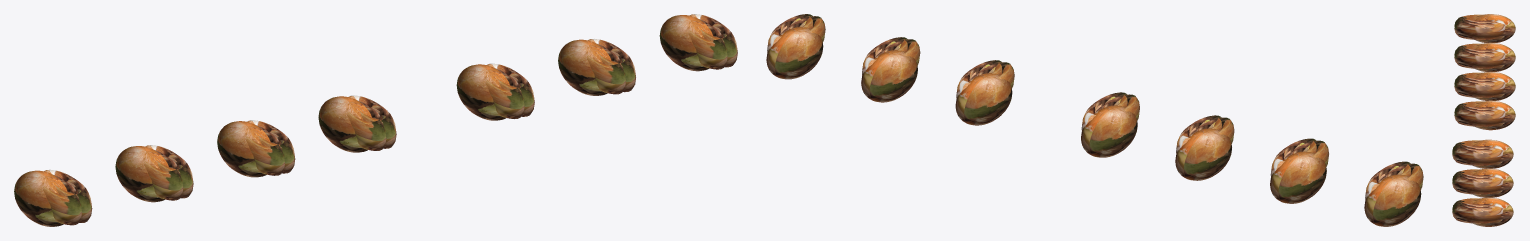
The model's file is torttas.obj.
3 views of the same model, side by side, from view 1: azimuth 30°, elevation 25°; view 2: azimuth 150°, elevation 25°; view 3: azimuth 270°, elevation 25° (orthographic). The views are drawn at different scales.
Visible parts, largest first — view 1: Sphere010, Sphere013, Sphere015, Sphere005, Sphere009, Sphere007, Sphere017, Torus009, Torus007, Torus013, Torus017, Torus016 (+9 smaller); view 2: Sphere013, Sphere005, Sphere010, Sphere009, Sphere017, Sphere007, Sphere015, Torus014, Torus008, Torus012, Torus015, Torus018 (+9 smaller); view 3: Torus008, Torus006, Torus010, Torus012, Torus014, Torus018, Torus015, Sphere013, Sphere010, Sphere017, Sphere015, Sphere009 (+9 smaller).
Part boxes in pixels (box(x1,y1,x2,y2)): Sphere010: box(318, 96, 371, 152); Sphere013: box(558, 39, 611, 95); Sphere015: box(456, 64, 509, 120); Sphere005: box(14, 170, 67, 226); Sphere009: box(217, 121, 270, 177); Sphere007: box(115, 146, 168, 202); Sphere017: box(659, 15, 712, 71); Torus009: box(245, 124, 284, 175); Torus007: box(144, 149, 183, 200); Torus013: box(485, 68, 524, 118); Torus017: box(688, 18, 727, 69); Torus016: box(586, 43, 625, 94); Sphere013: box(861, 50, 917, 102); Sphere005: box(1364, 174, 1421, 226); Sphere010: box(1081, 105, 1137, 157); Sphere009: box(1175, 128, 1231, 180); Sphere017: box(766, 27, 823, 79); Sphere007: box(1270, 151, 1326, 203); Sphere015: box(955, 73, 1012, 125); Torus014: box(956, 60, 1002, 98); Torus008: box(1270, 138, 1316, 176); Torus012: box(1081, 92, 1127, 130); Torus015: box(862, 37, 907, 75); Torus018: box(767, 14, 812, 52); Torus008: box(1454, 46, 1505, 68); Torus006: box(1454, 17, 1505, 39); Torus010: box(1454, 75, 1505, 97); Torus012: box(1454, 104, 1505, 126); Torus014: box(1452, 143, 1503, 165); Torus018: box(1452, 201, 1503, 223); Torus015: box(1452, 172, 1503, 194); Sphere013: box(1473, 168, 1513, 197); Sphere010: box(1474, 100, 1515, 130); Sphere017: box(1473, 197, 1513, 226); Sphere015: box(1472, 139, 1513, 168); Sphere009: box(1475, 72, 1515, 100).
Bounding box in the file's own units: 70.83 × 4.47 × 9.64.
